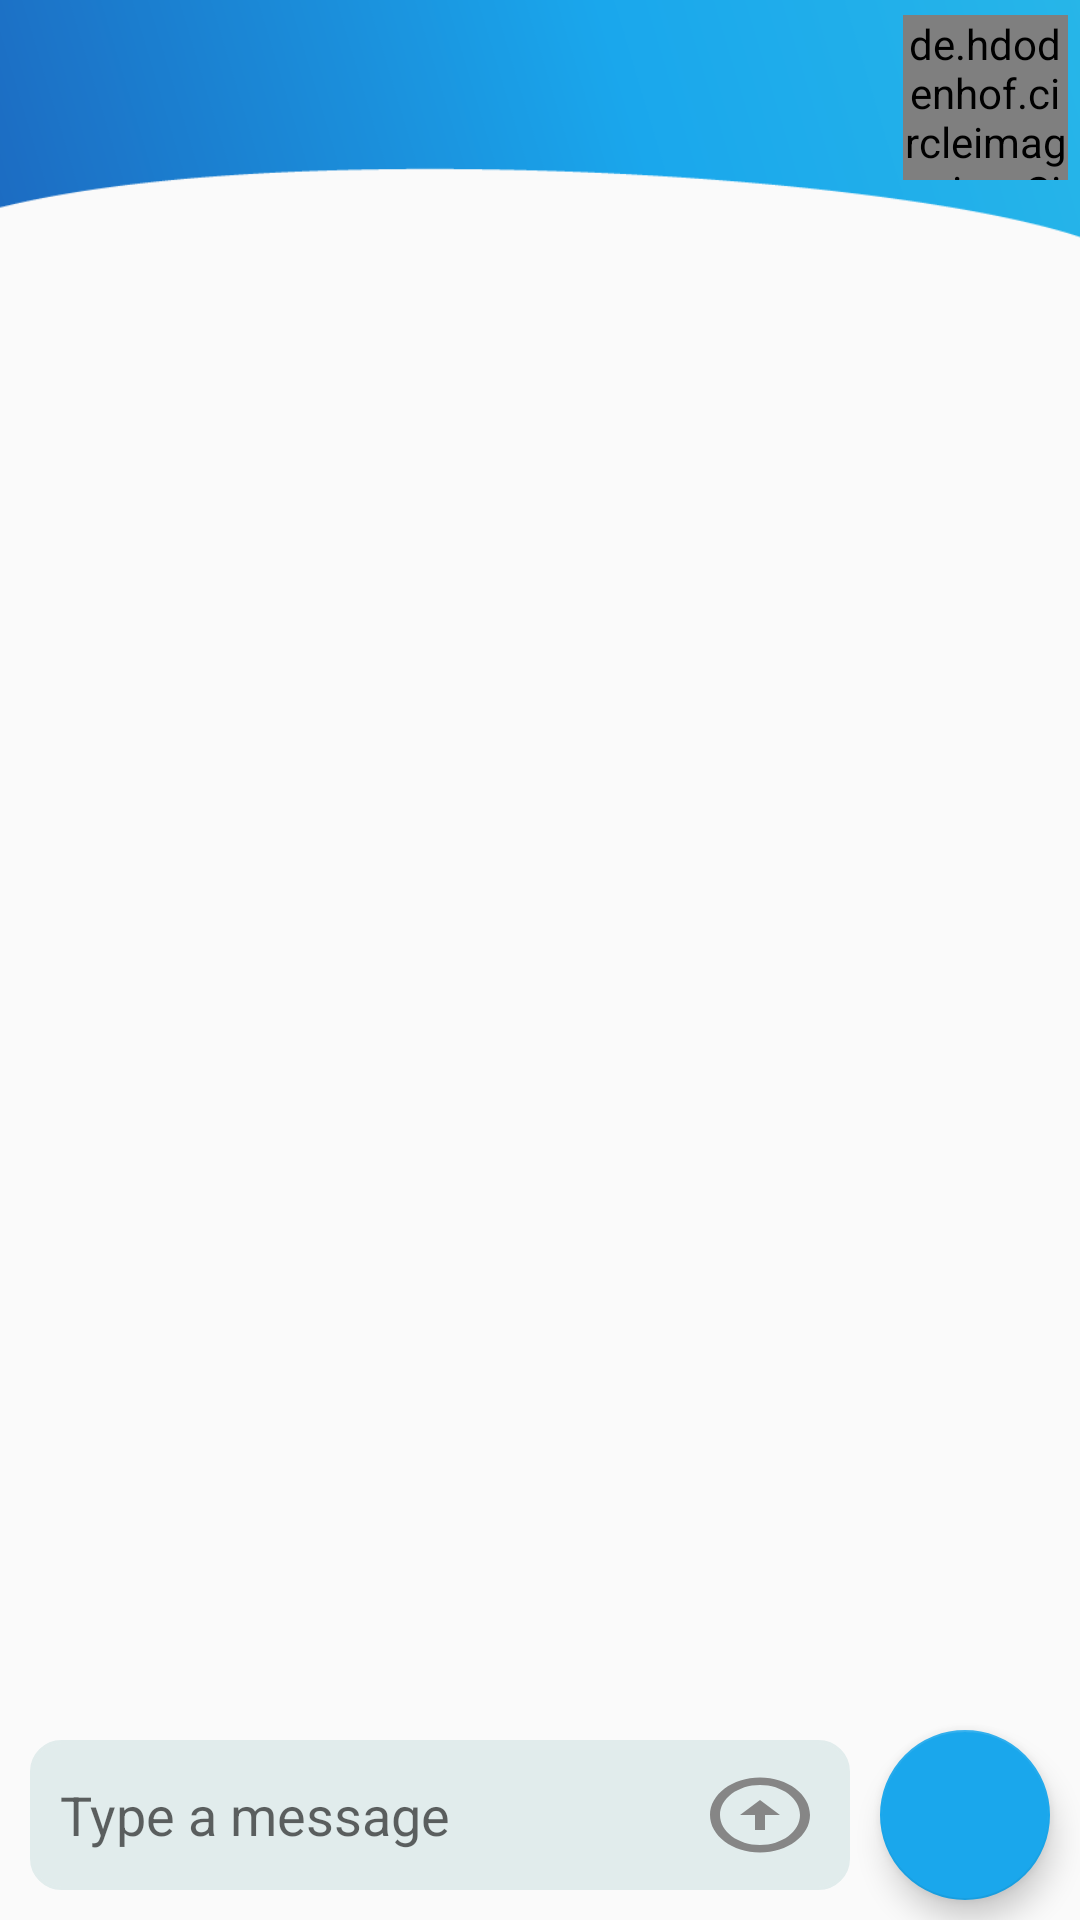

Named icons in this screenshot (1080w x 1920h) and their bounding boxes, (x1, y1, x2, y2):
arrow circle up: (710, 1777, 810, 1853)
